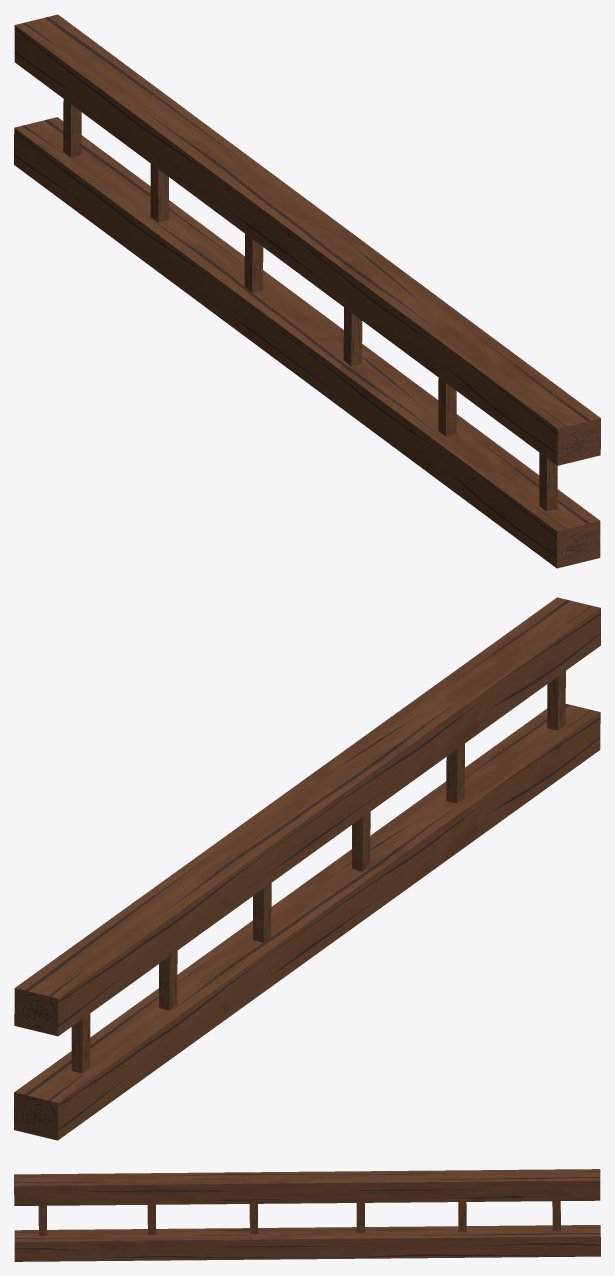
Rendered from ladder.fbx.
3 renders of one model, top to bottom at view 1: azimuth 30°, elevation 25°; view 2: azimuth 150°, elevation 25°; view 3: azimuth 270°, elevation 25°, orthographic. The views are drawn at different scales.
Visible parts, largest first — view 1: Bridge_1_Base; view 2: Bridge_1_Base; view 3: Bridge_1_Base.
Boxes of the visible parts, x1=… form: Bridge_1_Base: x1=14, y1=14, x2=600, y2=568; Bridge_1_Base: x1=14, y1=597, x2=600, y2=1140; Bridge_1_Base: x1=14, y1=1169, x2=600, y2=1261.
Size of the model in its own units: 18.06 by 56.06 by 369.
